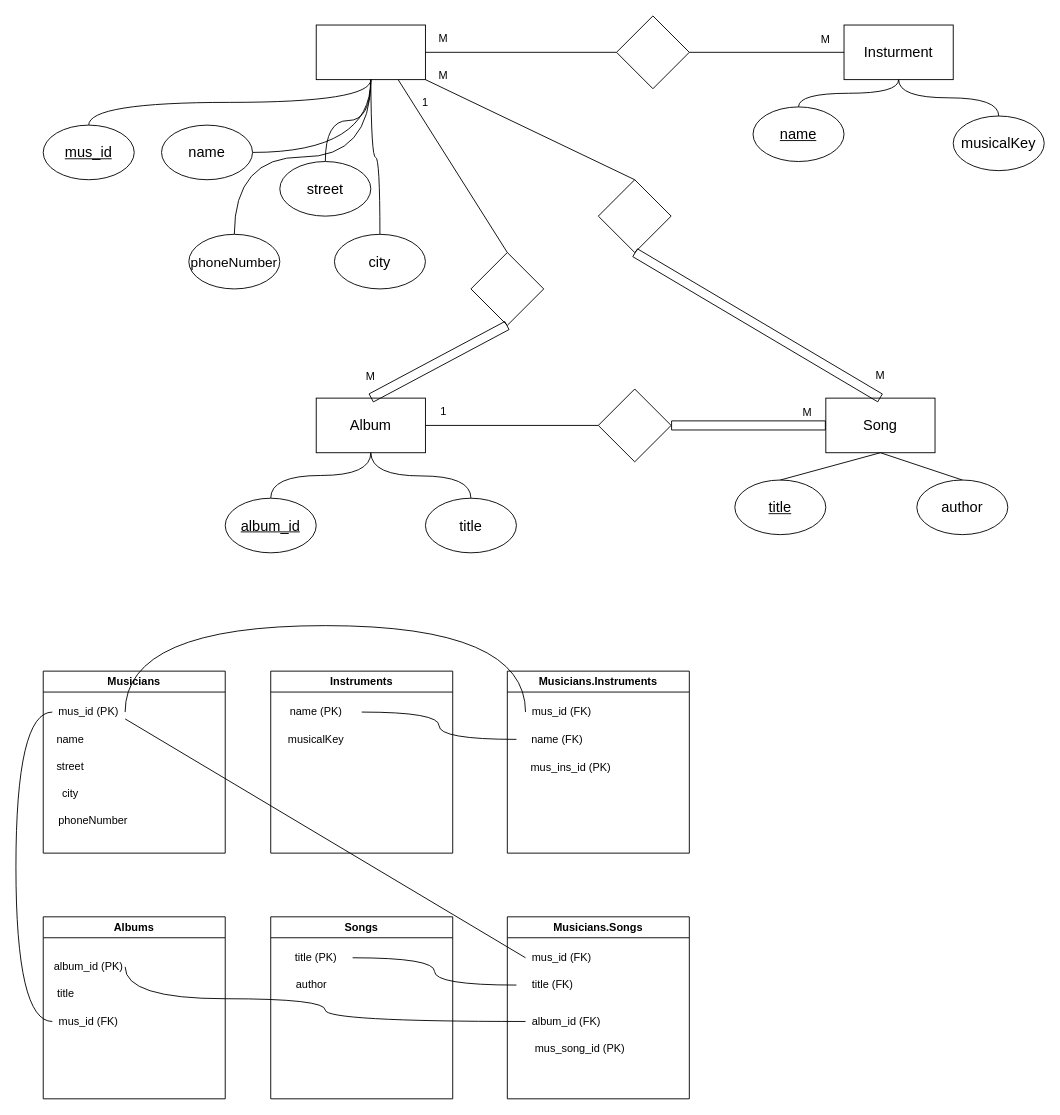
The diagram is 1060 pixels wide and 1115 high, and some of its shapes have lost their labels. The centre of each missing label's shape, as x and y in pixels:
"Has" belongs at [634,425].
"Musician" belongs at [370,52].
"Play" belongs at [634,216].
"Played" belongs at [652,52].
"Produce" belongs at [507,288].
